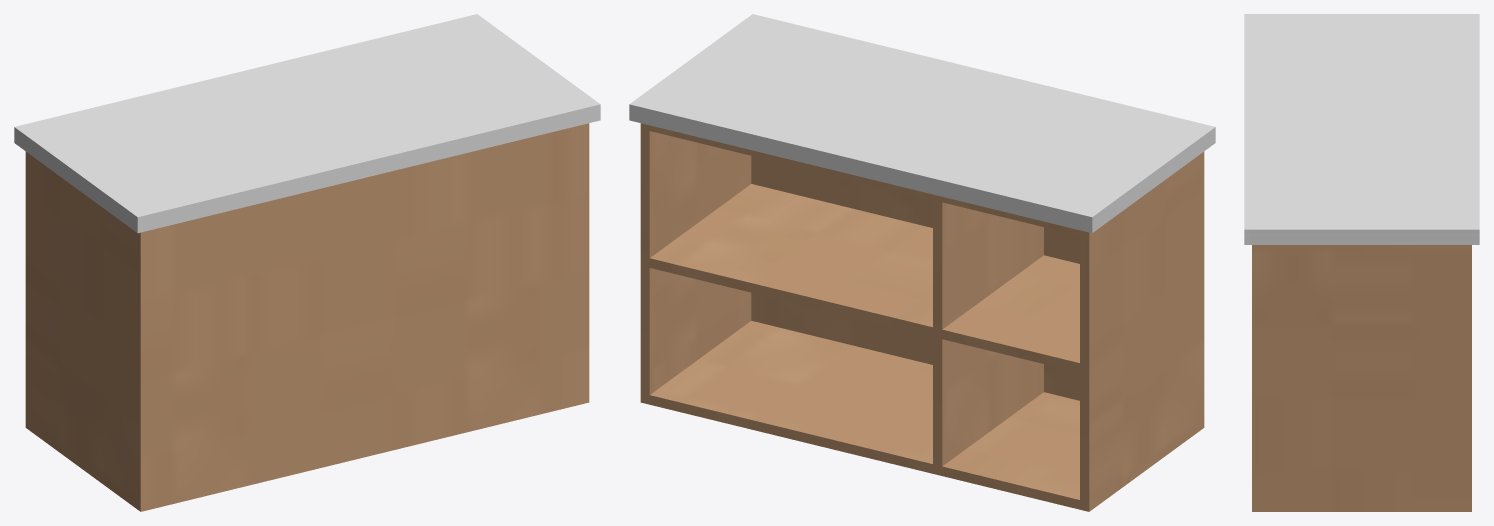
Rendered from BathroomVanity06.glb.
The picture shows the model from 3 angles, left to right: view 1: azimuth 30°, elevation 25°; view 2: azimuth 150°, elevation 25°; view 3: azimuth 270°, elevation 25°; orthographic projection. The views are drawn at different scales.
Parts seen in each view (by area): view 1: BathroomVanity06_model; view 2: BathroomVanity06_model; view 3: BathroomVanity06_model.
Part boxes in pixels (bbox=[...]): BathroomVanity06_model: bbox=[14, 14, 600, 511]; BathroomVanity06_model: bbox=[629, 14, 1215, 511]; BathroomVanity06_model: bbox=[1244, 14, 1479, 511].
Size of the model in its own units: 2.21 by 1.37 by 1.02.
Materials: 1 (1 with a texture image).
